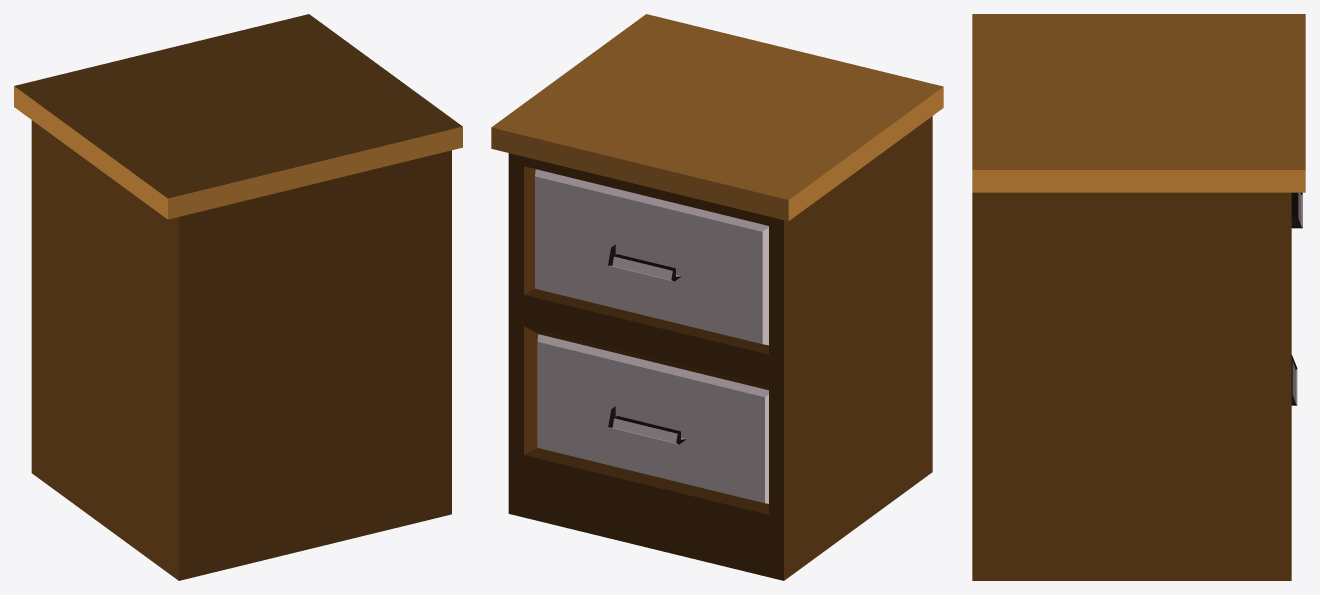
The model's file is Nightstand 4.fbx.
3 views of the same model, side by side, from view 1: azimuth 30°, elevation 25°; view 2: azimuth 150°, elevation 25°; view 3: azimuth 270°, elevation 25° (orthographic). The views are drawn at different scales.
Parts seen in each view (by area): view 1: Nightstand; view 2: Nightstand; view 3: Nightstand.
Part boxes in pixels (x1,y1,x2,y2): Nightstand: [14, 14, 462, 580]; Nightstand: [491, 14, 943, 580]; Nightstand: [972, 14, 1305, 580].
Bounding box in the file's own units: 0.7021 × 0.9698 × 0.7775.
